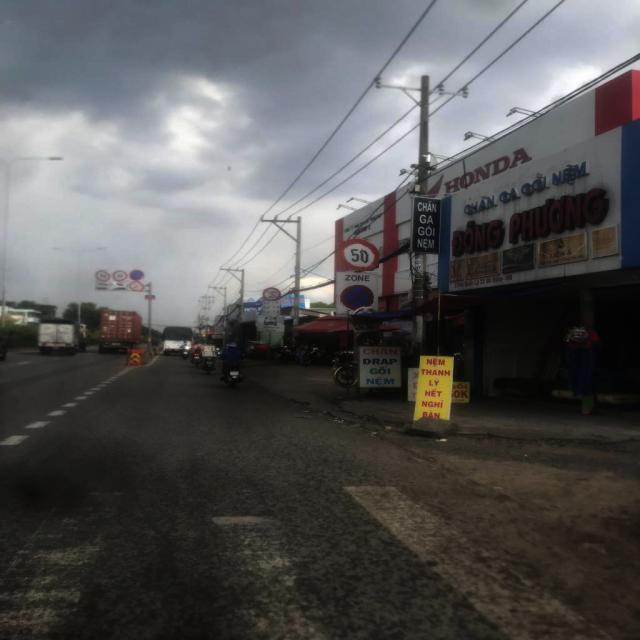107-cam-oto-khach-va-oto-tai: (262, 287, 281, 302)
127-toc-do-toi-da-50: (338, 238, 382, 272)
127-toc-do-toi-da-60: (112, 270, 128, 282)
127-toc-do-toi-da-80: (95, 270, 111, 282)
